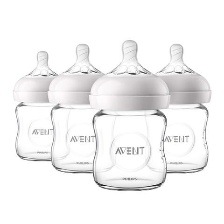bottle: (88, 103, 170, 193), (140, 99, 215, 175), (47, 99, 117, 175), (12, 93, 71, 163)
